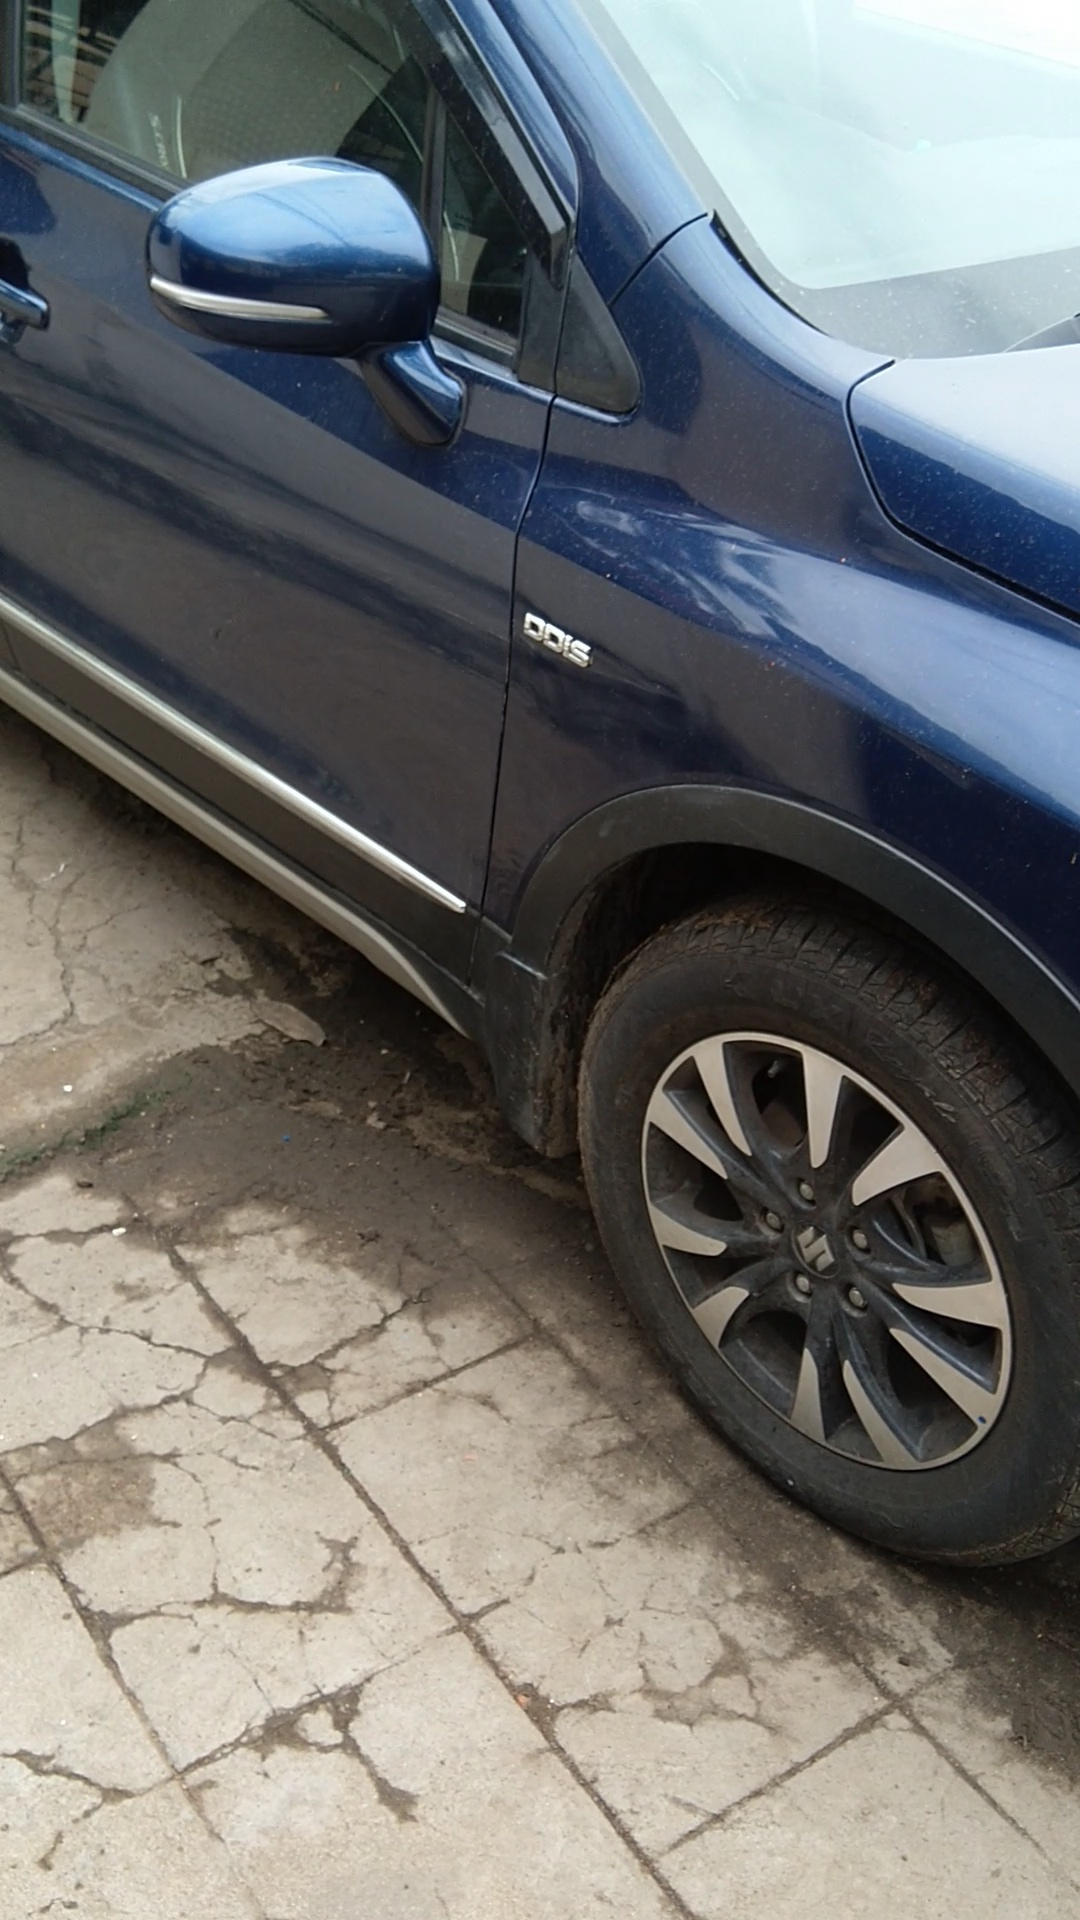alloy_wheel: (591, 890, 1080, 1571)
ovr_mirror: (135, 132, 484, 480)
